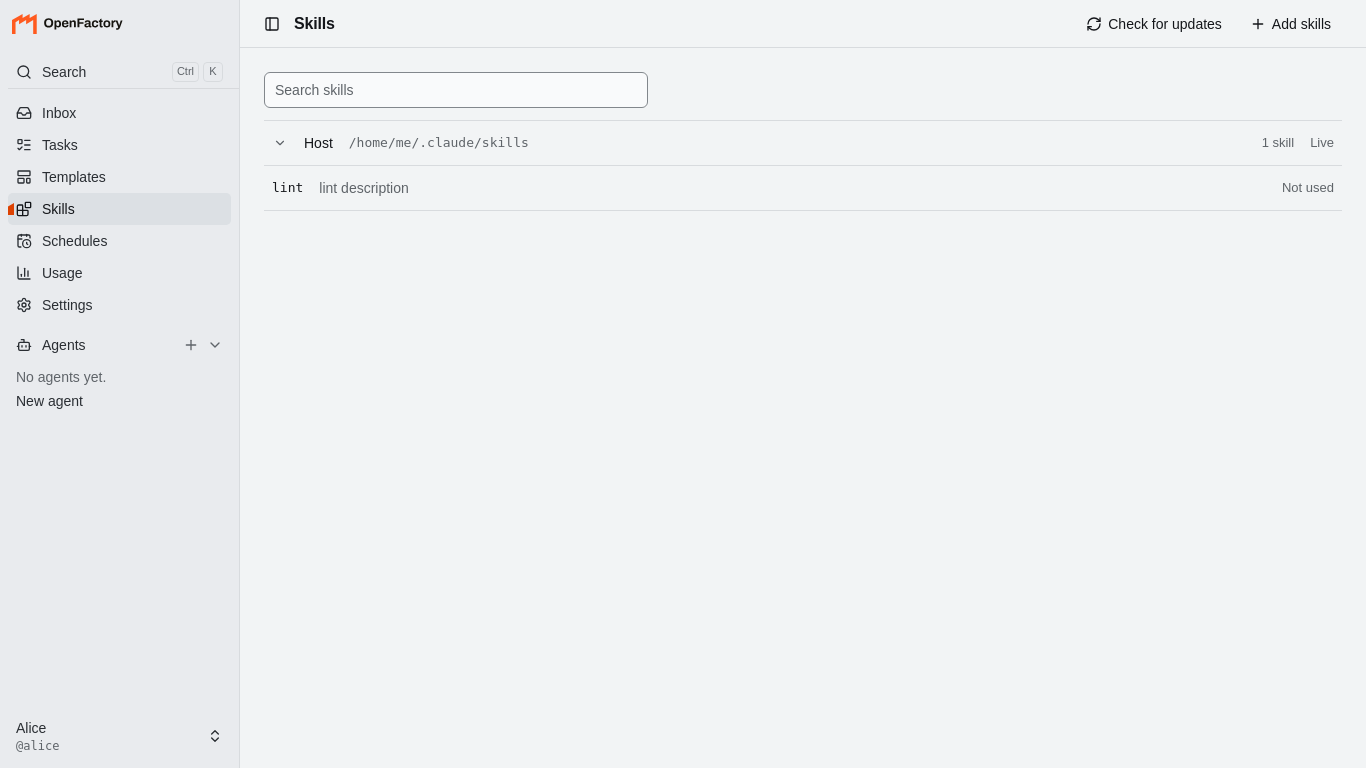
Test case: a github Find error for branch lands on its field
This screenshot has width=1366, height=768.
Step 1. Click the button "Add skills" → x=1291, y=24, box [1241, 8, 1342, 40]
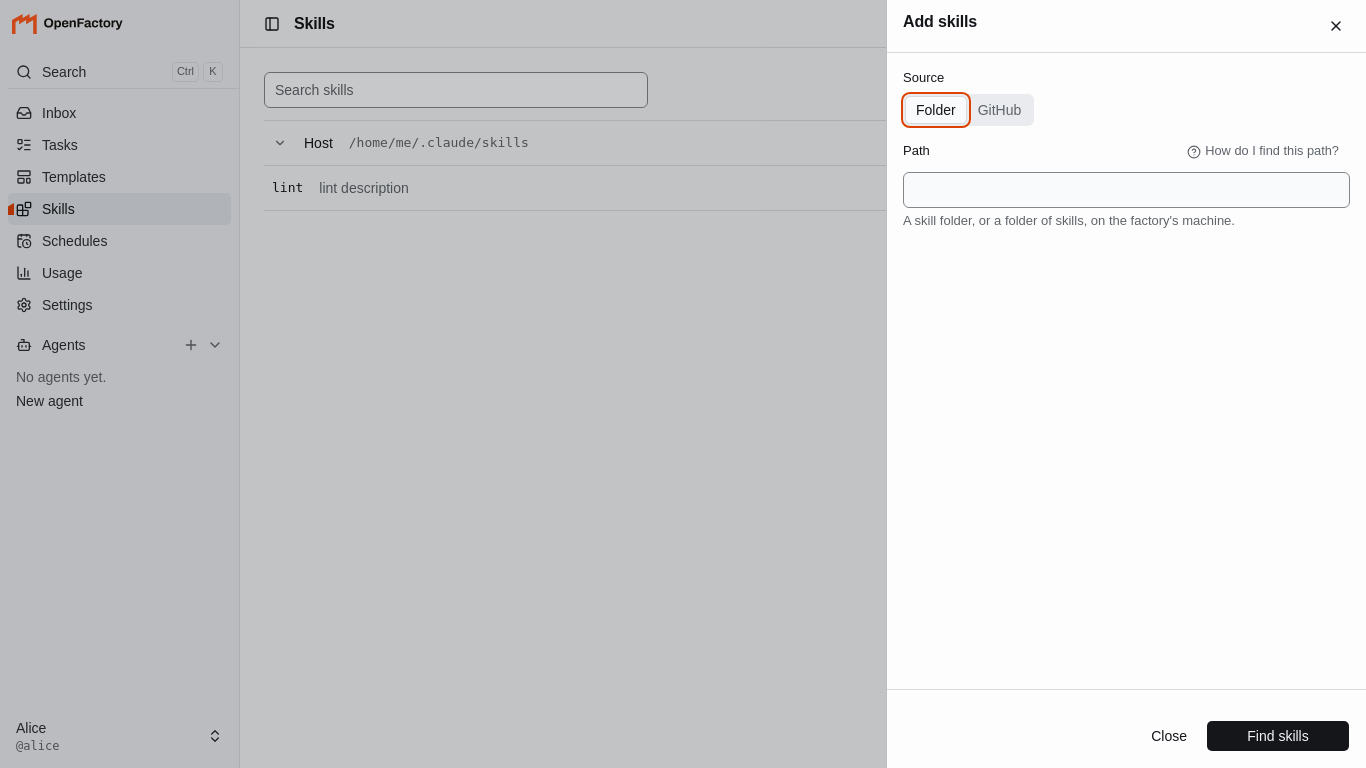
Now the form named "Add skills" is shown, box [887, 53, 1365, 767]
Step 2. Click the radio button labelled "GitHub" → x=1000, y=110, box [978, 102, 1021, 118]
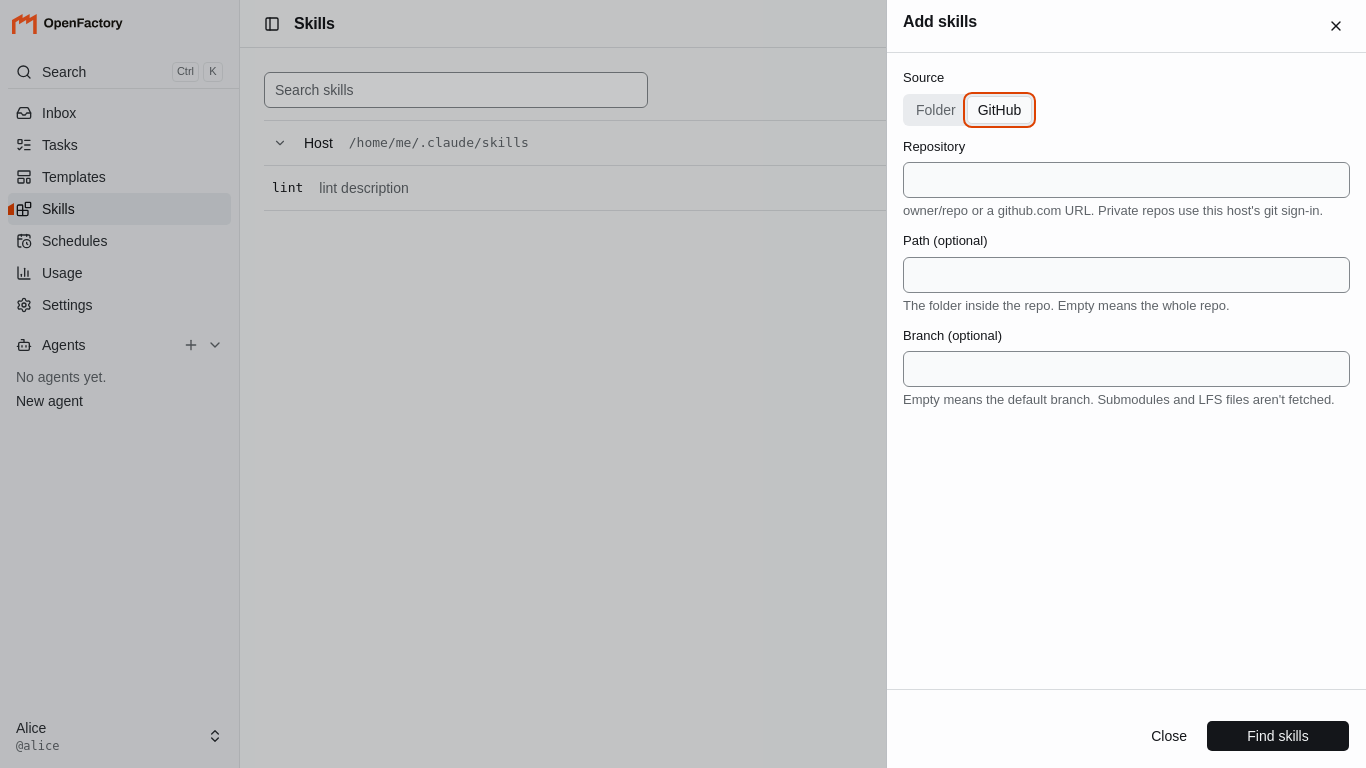
Step 3. Type "acme/x" into the field labelled "Repository" → x=1126, y=180, box [903, 162, 1350, 198]
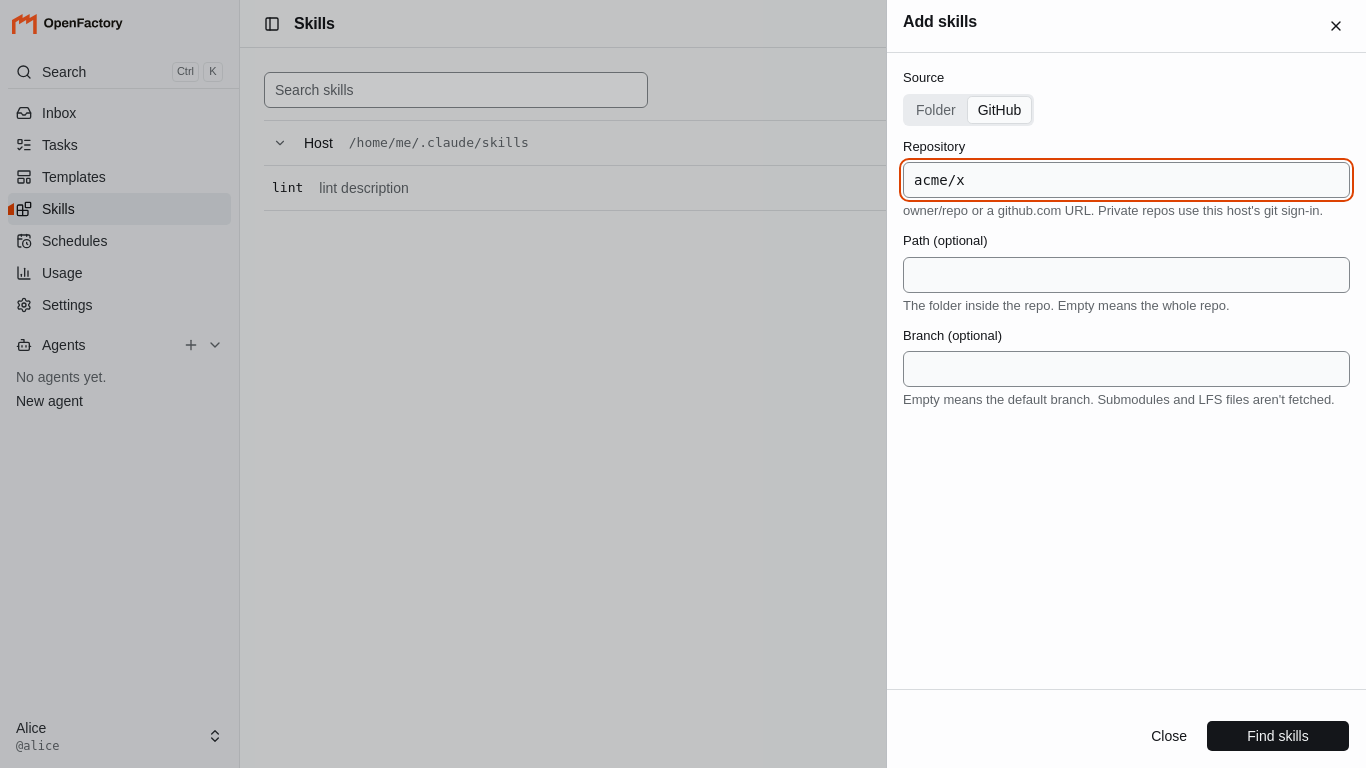
Step 4. Type "nope" into the field labelled "Branch (optional)" → x=1126, y=369, box [903, 351, 1350, 387]
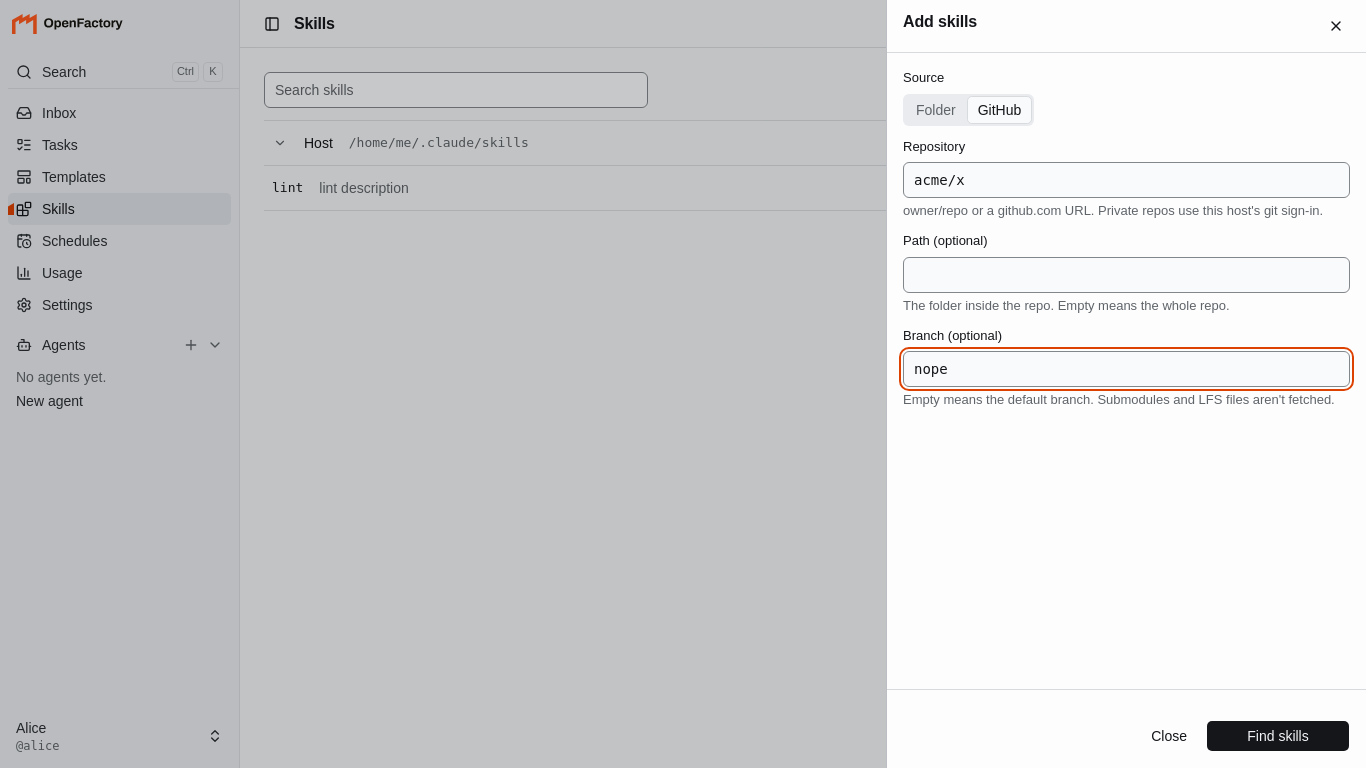
Step 5. Click the button "Find skills" → x=1278, y=736, box [1206, 720, 1350, 752]
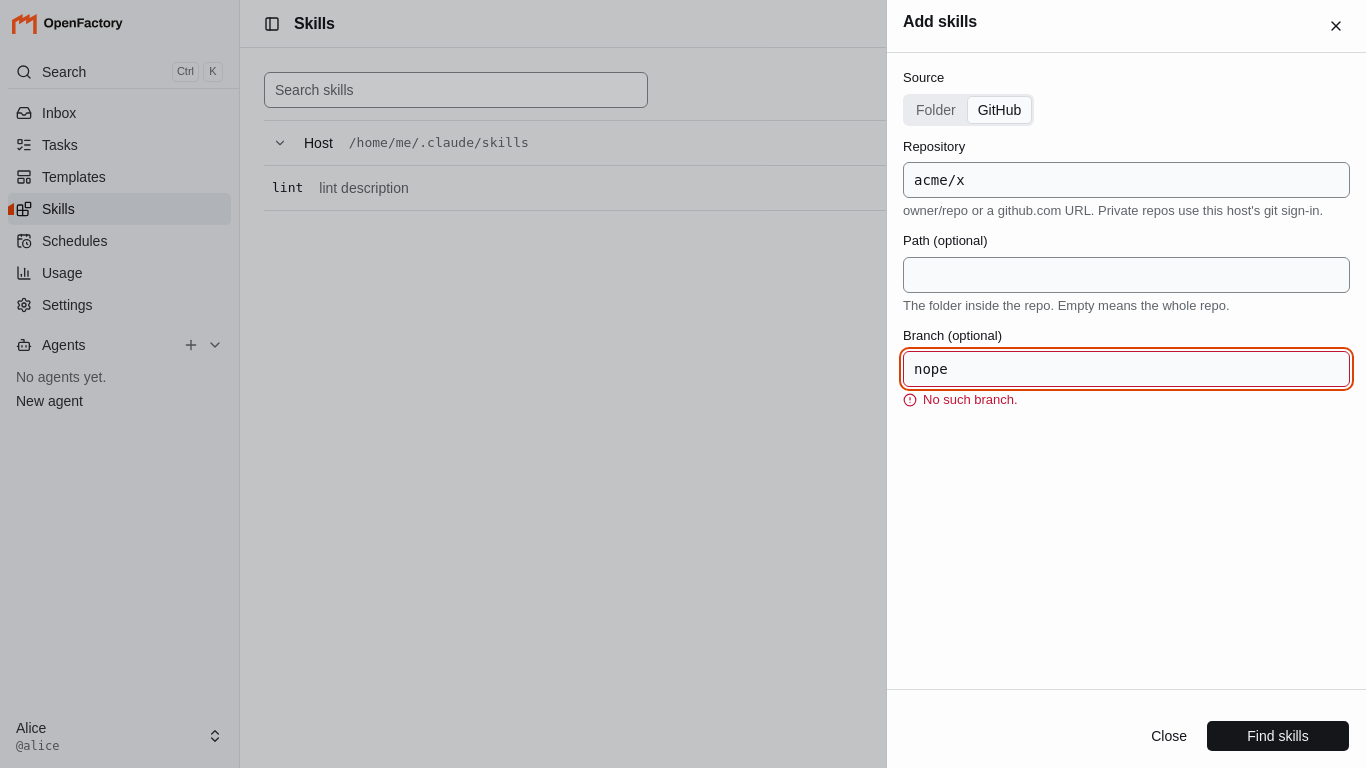
Now the text "No such branch." is shown, box [923, 391, 1018, 409]
